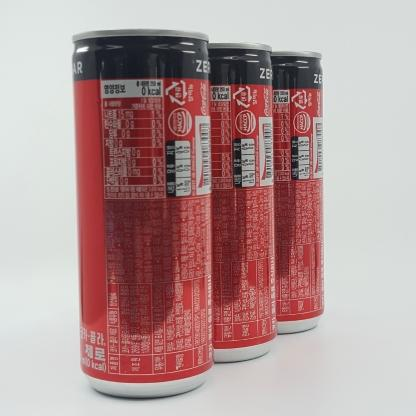------250ML: (72, 29, 214, 398), (177, 42, 277, 363)
